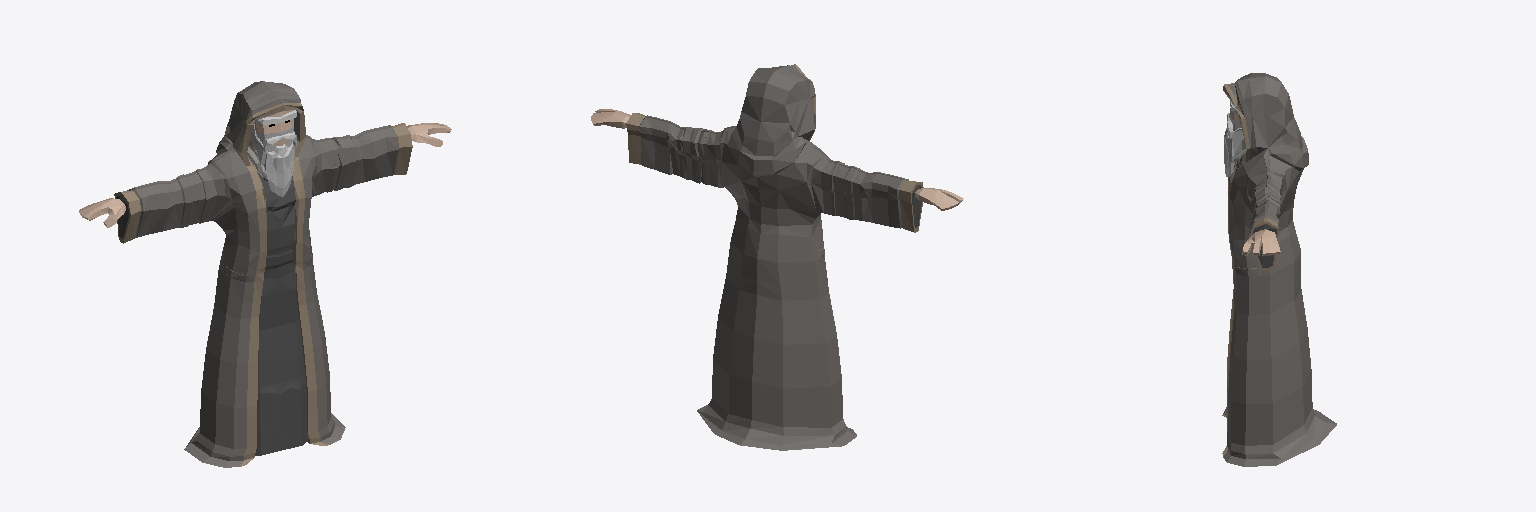
The picture shows the model from 3 angles: view 1: azimuth 30°, elevation 25°; view 2: azimuth 150°, elevation 25°; view 3: azimuth 270°, elevation 25°; orthographic projection.
Parts seen in each view (by area): view 1: Anorak; view 2: Anorak; view 3: Anorak.
Boxes of the visible parts, x1,y1,x2,y2 form: Anorak: [79, 81, 451, 467]; Anorak: [591, 64, 963, 450]; Anorak: [1222, 73, 1336, 466].
Size of the model in its own units: 2.05 by 1.92 by 0.5579.
1 materials, 1 textured.